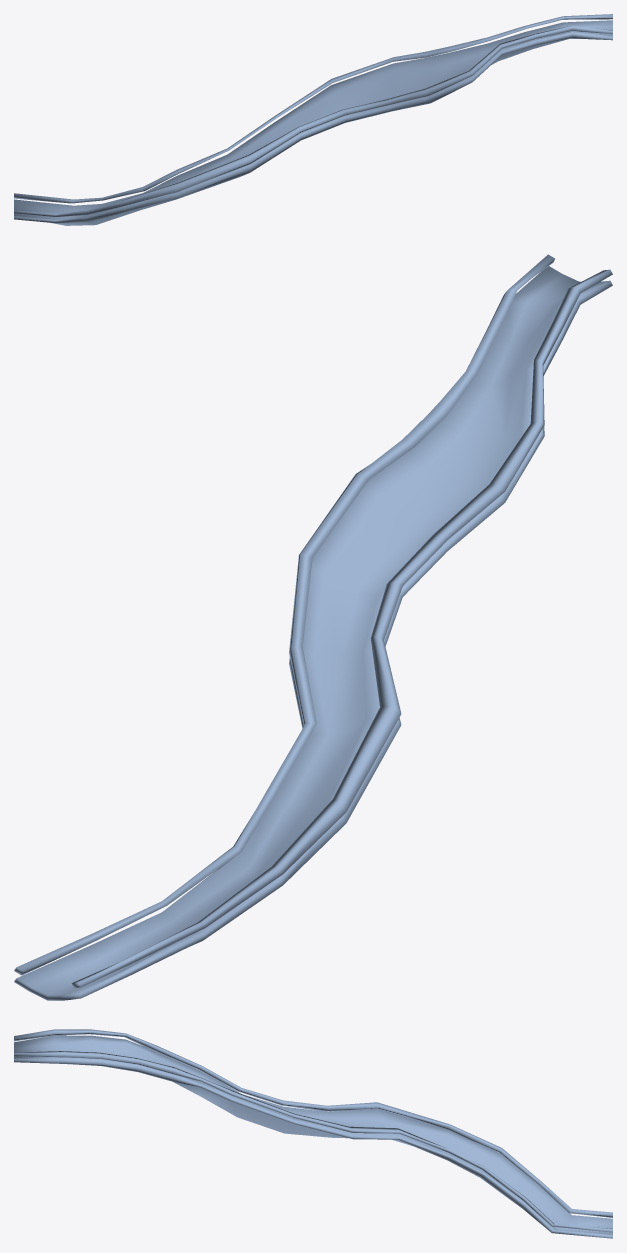
Rendered from junRoadLongCurveSlope2p5.fbx.
3 renders of one model, top to bottom at view 1: azimuth 90°, elevation 25°; view 2: azimuth 150°, elevation 25°; view 3: azimuth 270°, elevation 25°, orthographic. The views are drawn at different scales.
Visible parts, largest first — view 1: junRoadLongCurveSlope2p5_LOD0, junRoadLongCurveSlope2p5_edge_LOD0; view 2: junRoadLongCurveSlope2p5_LOD0, junRoadLongCurveSlope2p5_edge_LOD0; view 3: junRoadLongCurveSlope2p5_LOD0, junRoadLongCurveSlope2p5_edge_LOD0.
Boxes of the visible parts, x1,y1,x2,y2 form: junRoadLongCurveSlope2p5_LOD0: [14, 20, 612, 225]; junRoadLongCurveSlope2p5_edge_LOD0: [14, 14, 612, 217]; junRoadLongCurveSlope2p5_LOD0: [14, 266, 612, 1000]; junRoadLongCurveSlope2p5_edge_LOD0: [14, 254, 612, 988]; junRoadLongCurveSlope2p5_LOD0: [14, 1035, 612, 1238]; junRoadLongCurveSlope2p5_edge_LOD0: [14, 1029, 612, 1232].
Bounding box in the file's own units: 899 × 1634 × 4390.
